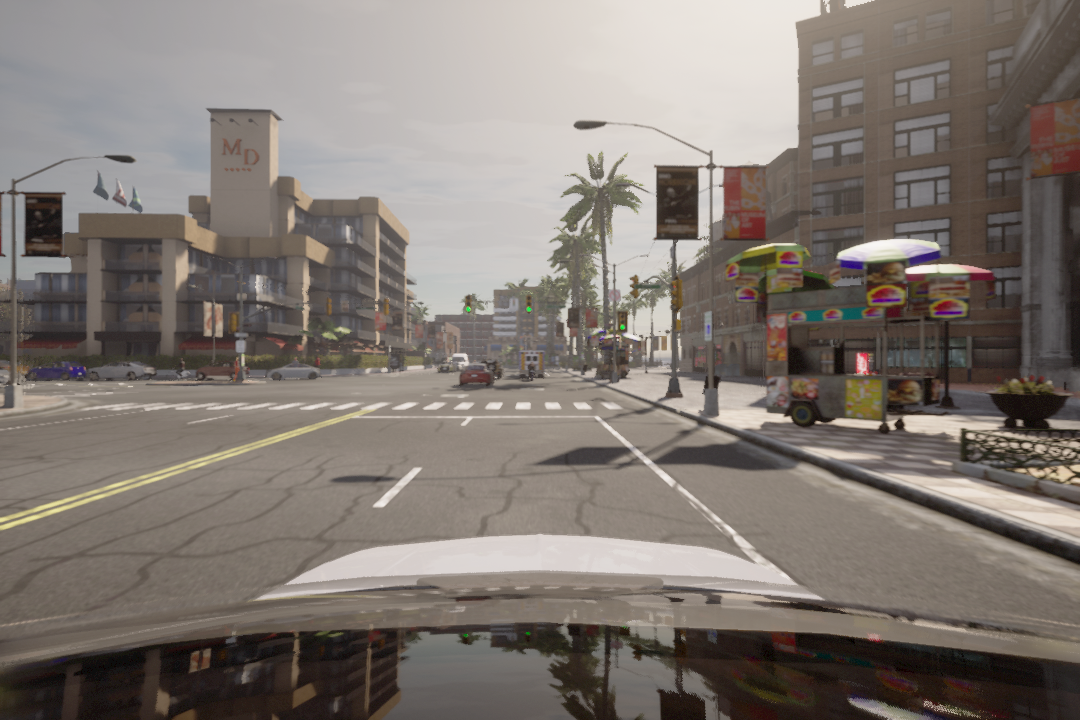TrafficLight: (671, 278, 685, 312), (617, 310, 629, 334), (629, 274, 641, 298), (463, 292, 475, 314), (524, 292, 534, 314)
TrafficSign: (607, 288, 621, 302)
walkside: (91, 397, 645, 414)
